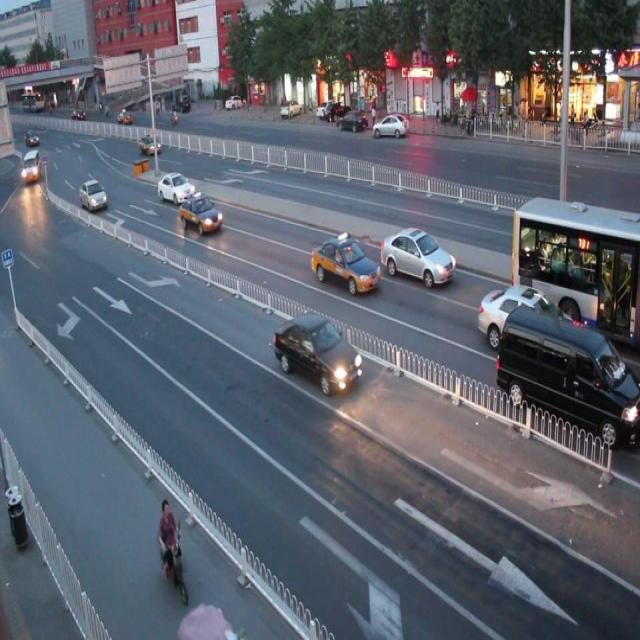car: (273, 312, 362, 393), (478, 283, 575, 349), (379, 226, 455, 286), (310, 234, 380, 296), (180, 194, 224, 236), (158, 172, 194, 203)
truck: (496, 300, 640, 446)
van: (510, 193, 640, 350)
